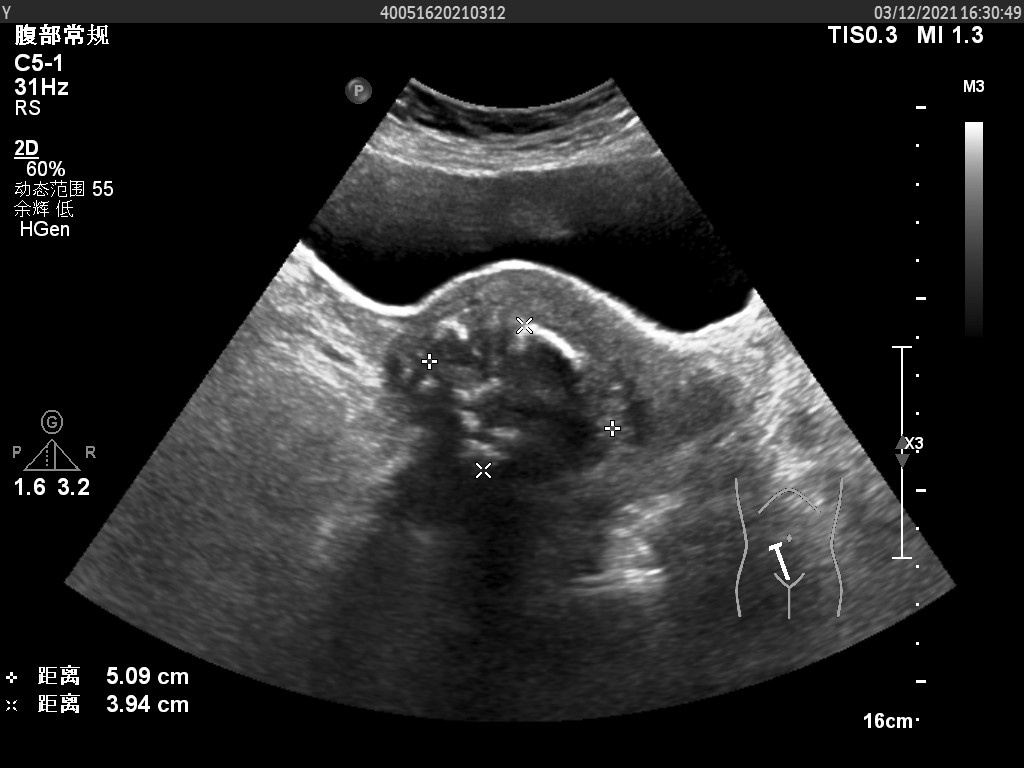肌瘤: (429, 328, 615, 471)
